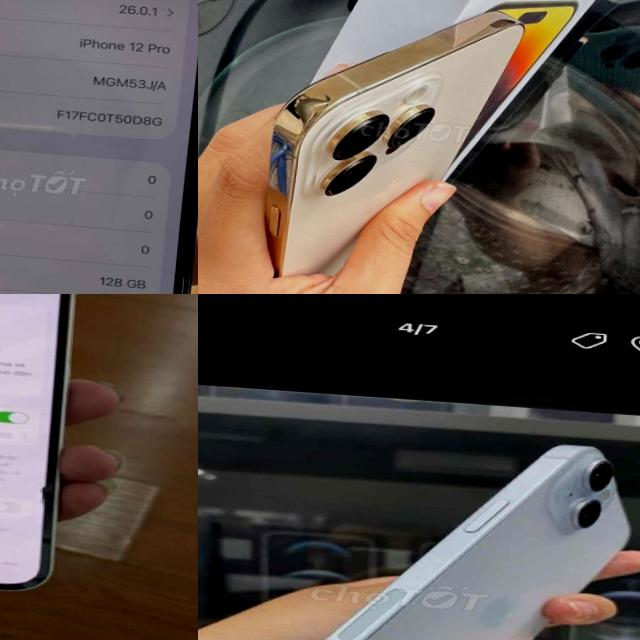gen_12_13: (0, 0, 198, 294), (0, 294, 103, 608)
gen_14: (265, 12, 523, 275)
gen_15: (224, 413, 640, 640)
